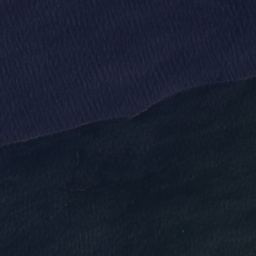Marine Debris: (0, 72, 256, 148)
